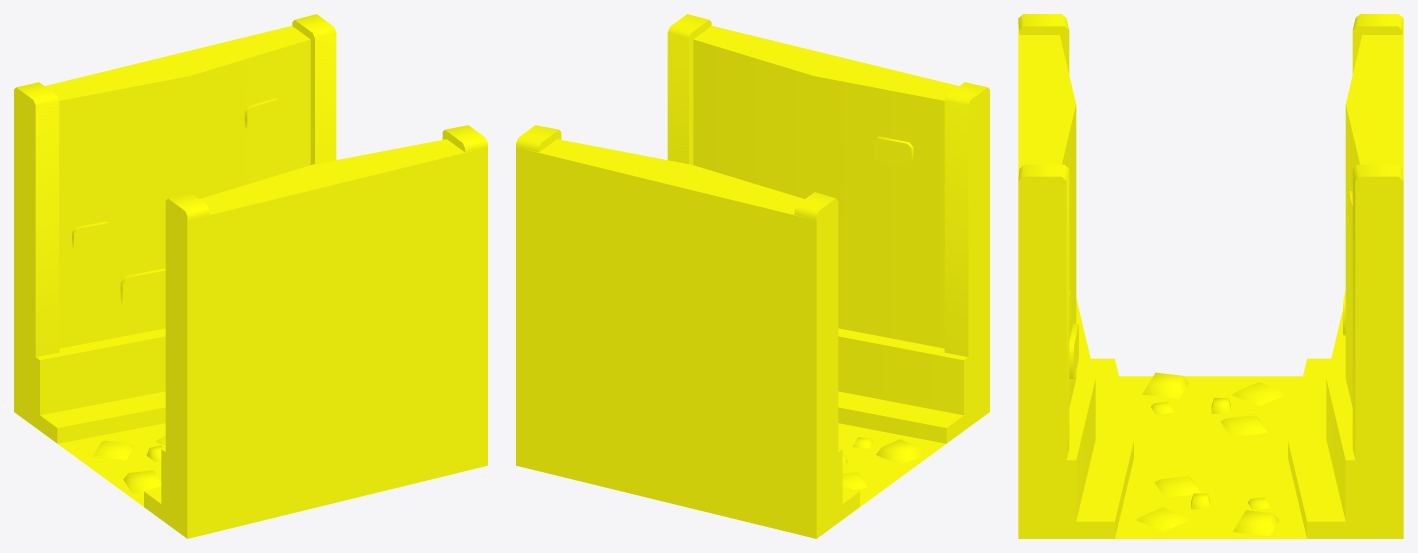
File: 建筑构件_走廊_地牢.glb
3 views of the same model, side by side, from view 1: azimuth 30°, elevation 25°; view 2: azimuth 150°, elevation 25°; view 3: azimuth 270°, elevation 25° (orthographic). The views are drawn at different scales.
Visible parts, largest first — view 1: corridor; view 2: corridor; view 3: corridor.
Boxes of the visible parts, x1,y1,x2,y2 form: corridor: (14,14,487,538); corridor: (516,14,989,538); corridor: (1018,14,1403,538).
Size of the model in its own units: 4 by 4.15 by 4.
1 material, 1 textured.
